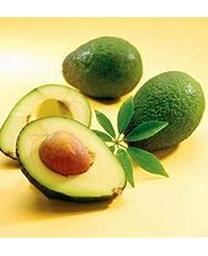avocado: (14, 114, 128, 206), (124, 70, 206, 152), (60, 34, 145, 101)
